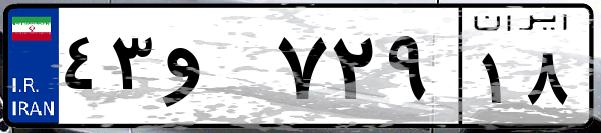1: (475, 38, 525, 113)
2: (330, 28, 385, 110)
3: (110, 28, 158, 98)
4: (57, 26, 110, 100)
7: (270, 28, 330, 110)
8: (525, 38, 570, 115)
9: (385, 28, 445, 110)
و: (158, 20, 270, 120)
